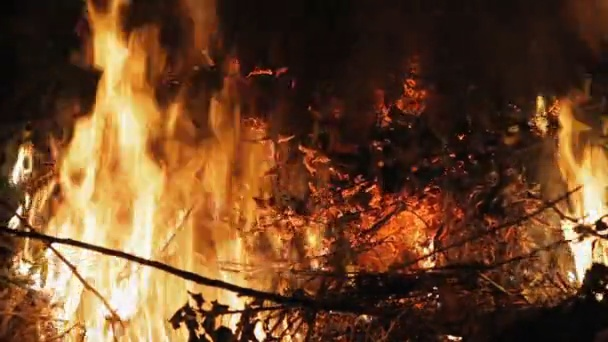fire: (8, 2, 277, 340), (555, 101, 608, 278)
